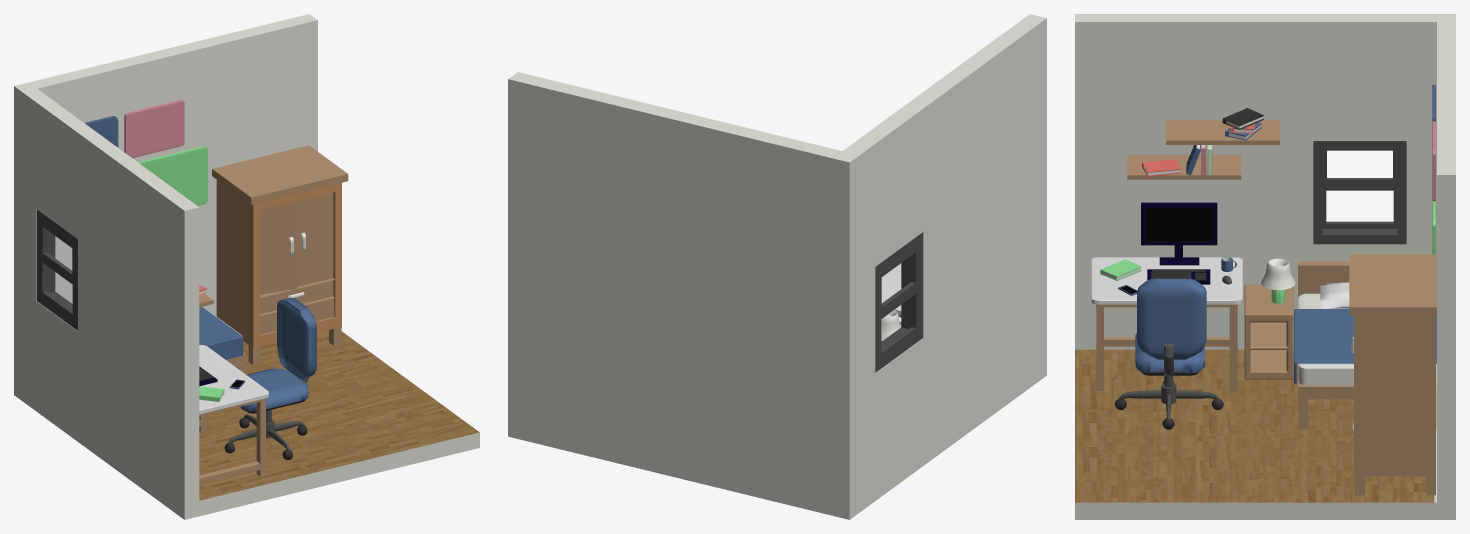
The model's file is Room.gltf.
3 renders of one model, left to right at view 1: azimuth 30°, elevation 25°; view 2: azimuth 150°, elevation 25°; view 3: azimuth 270°, elevation 25°, orthographic. The views are drawn at different scales.
Parts seen in each view (by area): view 1: Cube, Cupboard, Floor-Plane, Cube.002, Frame.002, Cube.042, Frame.003, Cube.019, Cube.043, pc-table, Blanket, Cylinder.007 (+1 smaller); view 2: Cube, Cube.002, Cube.019; view 3: Cube, Floor-Plane, Cupboard, Cube.002, Cube.042, Lamp-table, Monitor, Cube.019, Blanket, Bed, Shelf.001, pc-table (+10 smaller).
Part boxes in pixels (bbox=[...]): Cube: bbox=[14, 14, 479, 519]; Cupboard: bbox=[212, 145, 348, 365]; Floor-Plane: bbox=[199, 330, 479, 500]; Cube.002: bbox=[36, 209, 77, 330]; Frame.002: bbox=[124, 100, 184, 158]; Cube.042: bbox=[277, 298, 316, 379]; Frame.003: bbox=[138, 146, 207, 205]; Cube.019: bbox=[199, 345, 268, 414]; Cube.043: bbox=[239, 368, 308, 411]; pc-table: bbox=[199, 398, 265, 484]; Blanket: bbox=[199, 307, 243, 359]; Cylinder.007: bbox=[227, 409, 305, 451]; Cube: bbox=[508, 14, 1046, 519]; Cube.002: bbox=[875, 232, 922, 372]; Cube.019: bbox=[881, 263, 901, 314]; Cube: bbox=[1075, 14, 1455, 519]; Floor-Plane: bbox=[1075, 349, 1434, 502]; Cupboard: bbox=[1349, 254, 1436, 495]; Cube.002: bbox=[1313, 141, 1406, 244]; Cube.042: bbox=[1137, 278, 1206, 359]; Lamp-table: bbox=[1244, 284, 1293, 379]; Monitor: bbox=[1141, 202, 1217, 265]; Cube.019: bbox=[1091, 257, 1242, 304]; Blanket: bbox=[1294, 309, 1436, 383]; Bed: bbox=[1298, 261, 1436, 429]; Shelf.001: bbox=[1166, 120, 1279, 144]; pc-table: bbox=[1096, 304, 1237, 391].
Size of the model in its own units: 5 by 5 by 5.
Materials: 13 (1 with a texture image).
